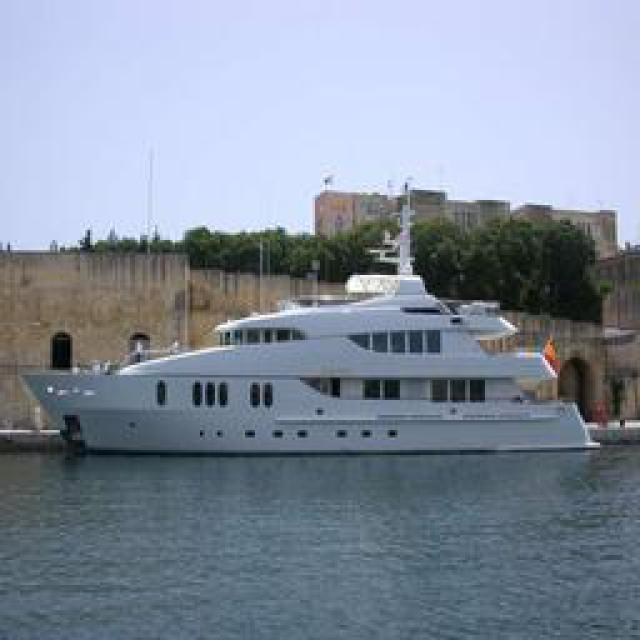Ship: (41, 275, 606, 458)
